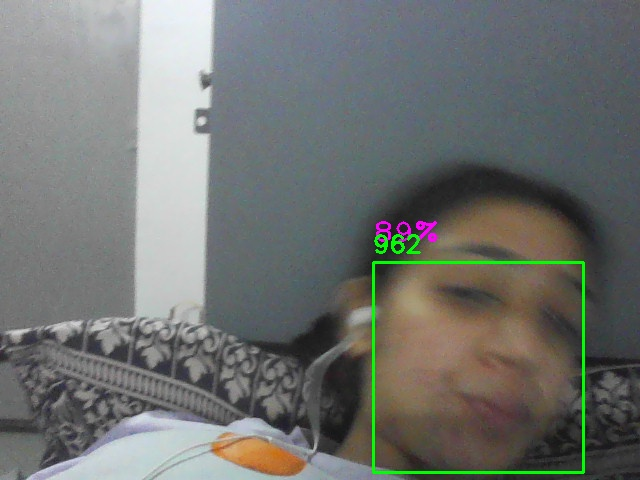real: (373, 262, 584, 473)
